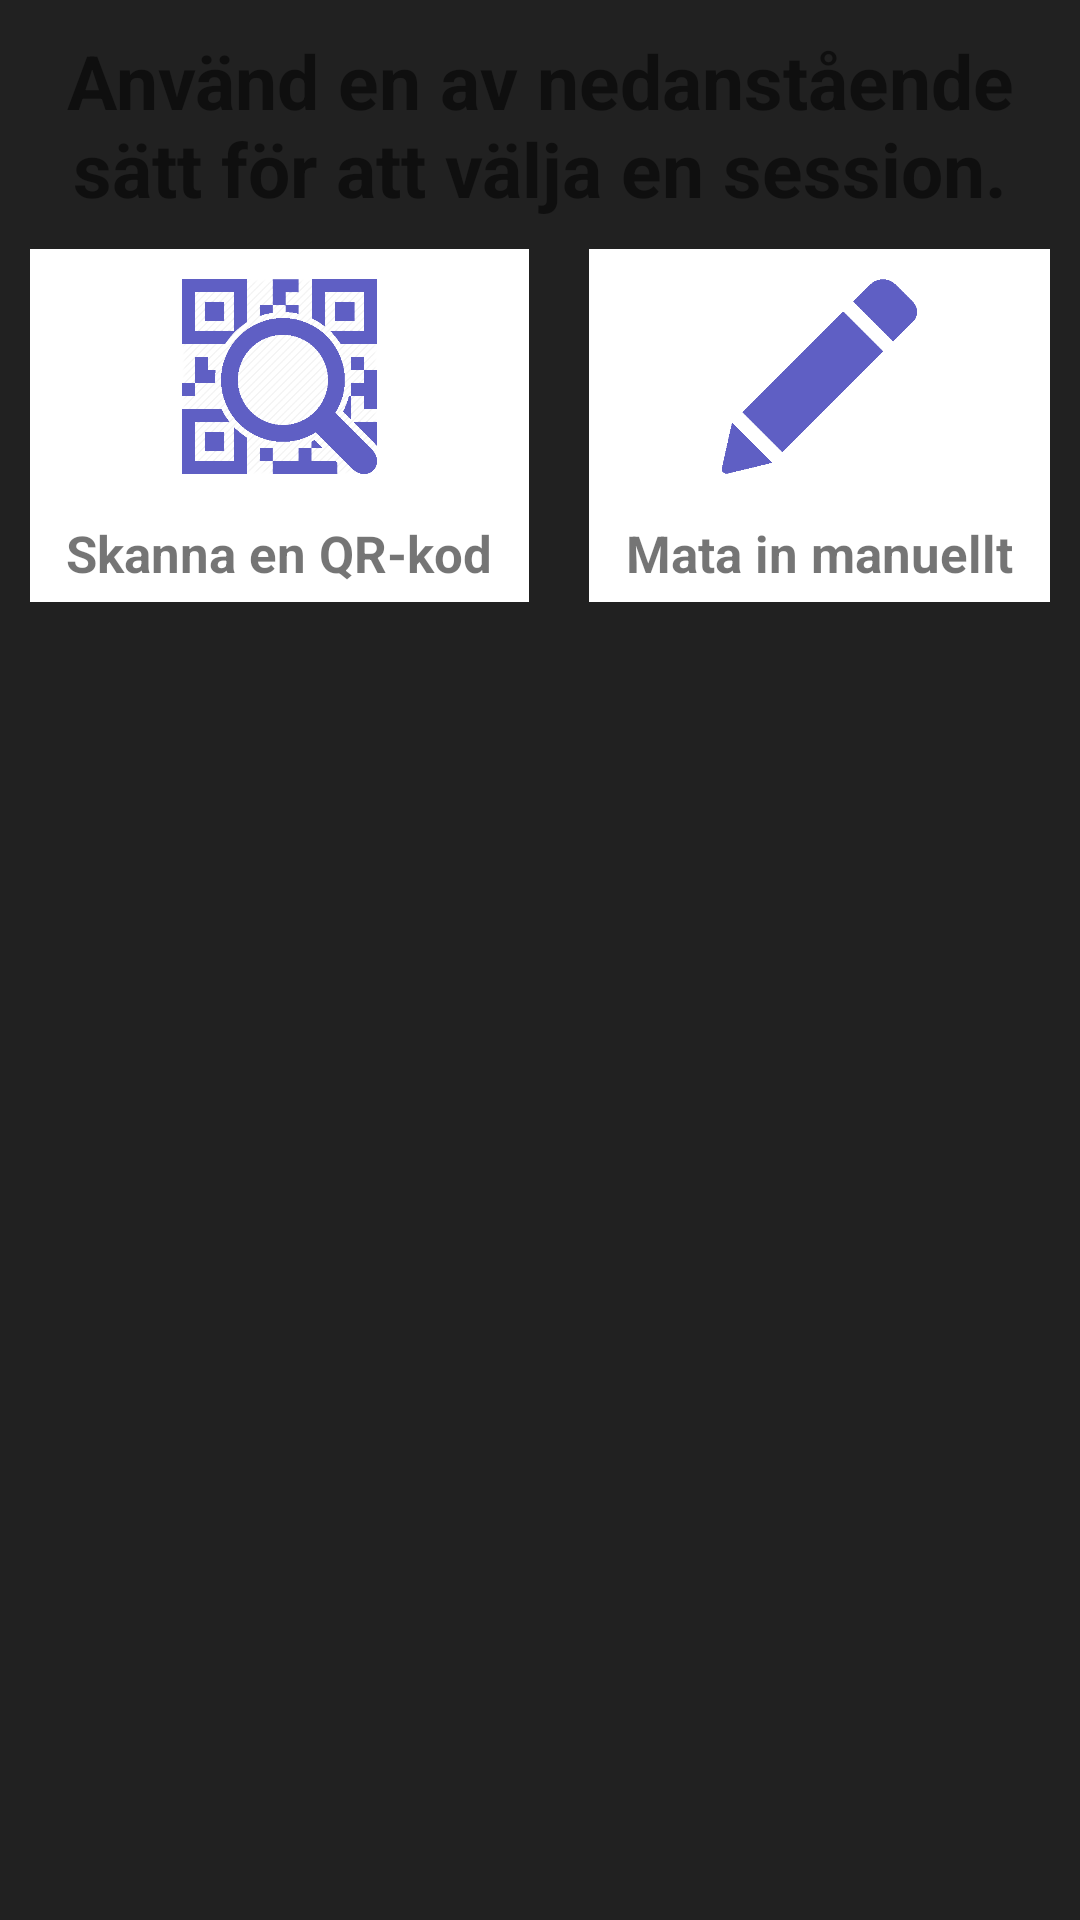

Icon click points for this 1080*1920 phone screenshot, format (x,y):
enter man: (819,376)
scan qr: (279,376)
